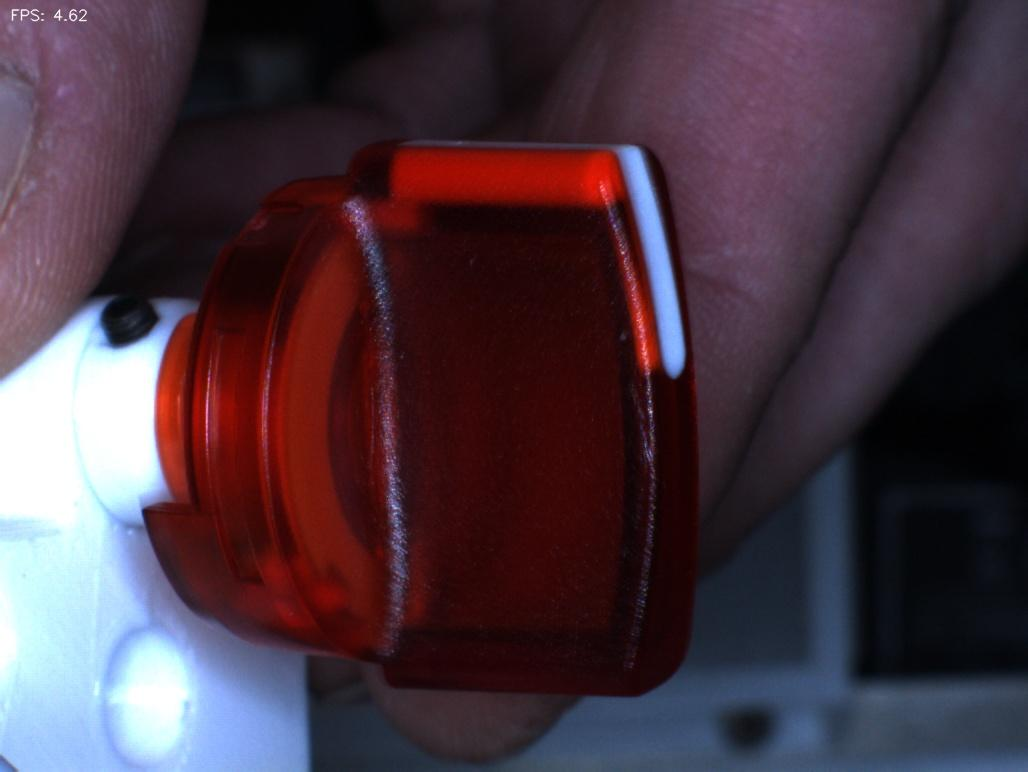Givrage: (609, 366, 674, 489)
